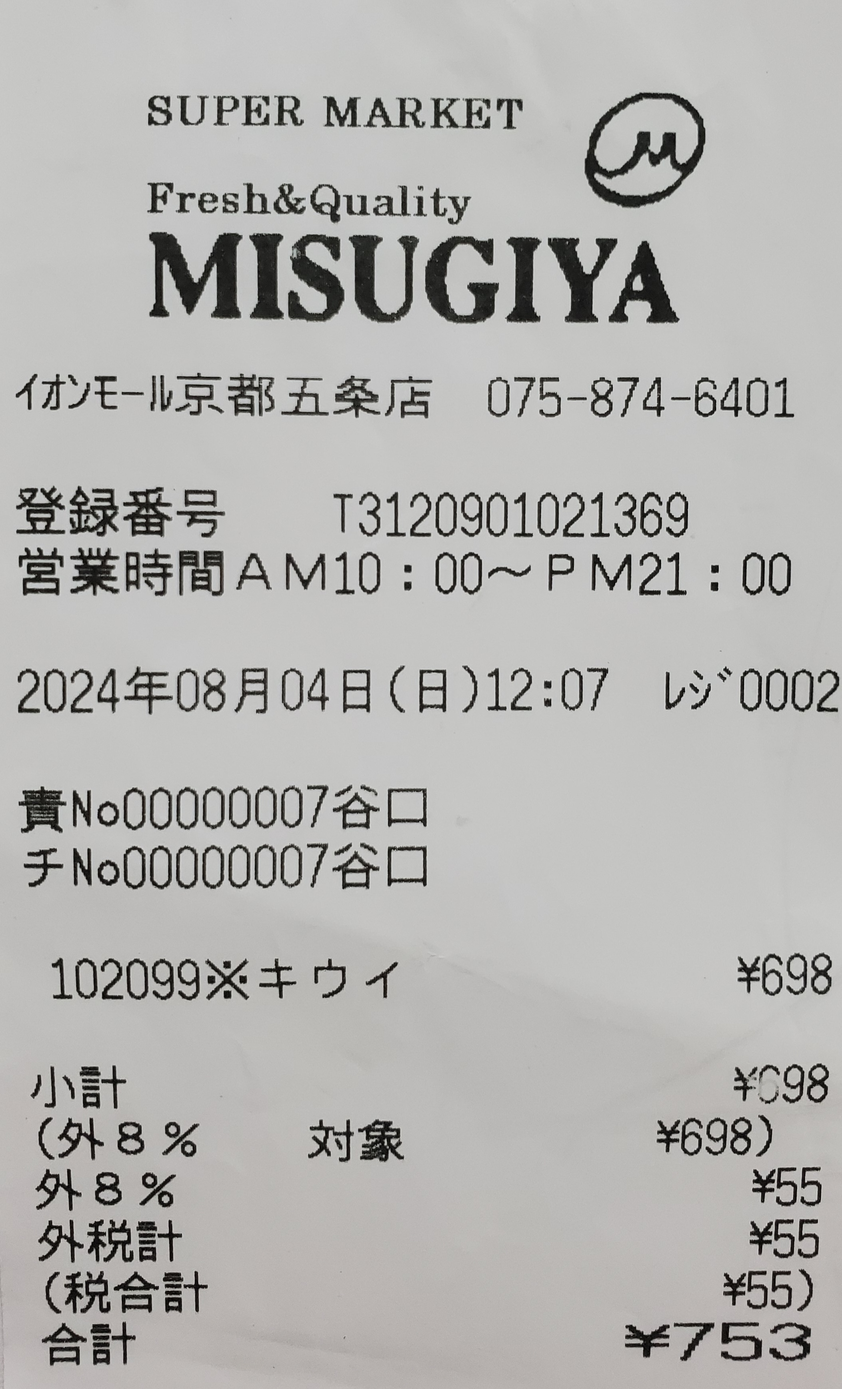Date: (12, 653, 380, 722)
Shopname: (120, 223, 728, 341)
Telnum: (458, 363, 806, 425)
Totalpay: (28, 1316, 838, 1382)
